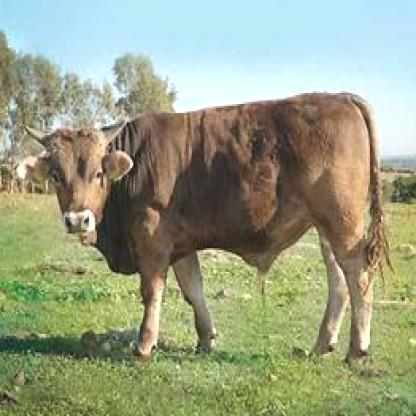cow: (16, 87, 390, 366)
